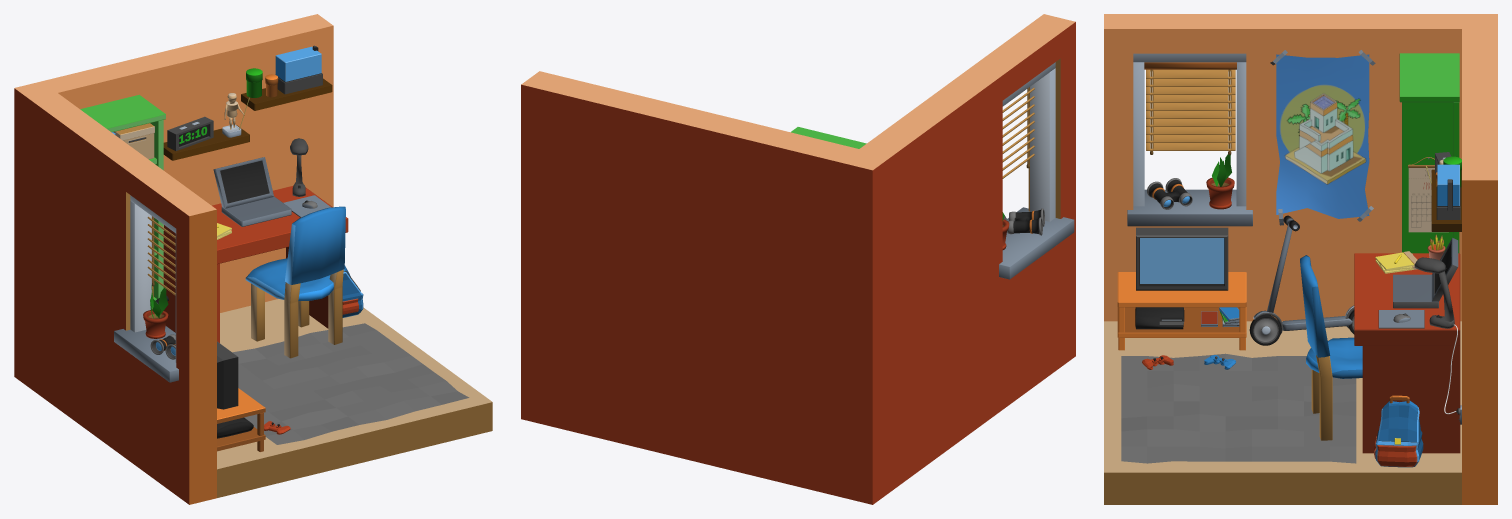
3 views of the same model, side by side, from view 1: azimuth 30°, elevation 25°; view 2: azimuth 150°, elevation 25°; view 3: azimuth 270°, elevation 25° (orthographic). The views are drawn at different scales.
Visible parts, largest first — view 1: Wall_L, Wall_R, Plane, Floor, Cube.020, Window, Cube.019, Laptop, Cube.031, Cube.010, Cube.023, TV Table (+8 smaller); view 2: Wall_R, Wall_L, Window, Cylinder; view 3: Wall_L, Floor, Plane, Wall_R, Window, Poster, Cube.019, Cube.031, TV, TV Table, Cube.020, Cube.016 (+13 smaller).
Boxes of the visible parts, x1,y1,x2,y2 form: Wall_L: (14,81,216,504); Wall_R: (42,14,333,312); Plane: (232,323,469,444); Floor: (217,299,492,497); Cube.020: (245,206,345,358); Window: (114,195,178,382); Cube.019: (163,186,348,342); Laptop: (213,157,291,226); Cube.031: (80,94,165,300); Cube.010: (163,78,332,160); Cube.023: (275,45,322,94); TV Table: (217,388,265,451); Wall_R: (521,71,858,496); Wall_L: (841,14,1075,504); Window: (999,62,1074,279); Cylinder: (1007,208,1044,235); Wall_L: (1104,14,1497,321); Floor: (1104,321,1461,504); Plane: (1121,353,1356,463); Wall_R: (1462,29,1497,504); Window: (1127,53,1252,226); Poster: (1270,50,1375,225); Cube.019: (1354,253,1460,453); Cube.031: (1399,53,1459,253); TV: (1136,227,1228,290); TV Table: (1117,272,1246,350); Cube.020: (1300,255,1362,440); Cube.016: (1374,395,1423,467).
Size of the model in its own units: 11.34 by 10 by 11.
Materials: 3 (2 with a texture image).
